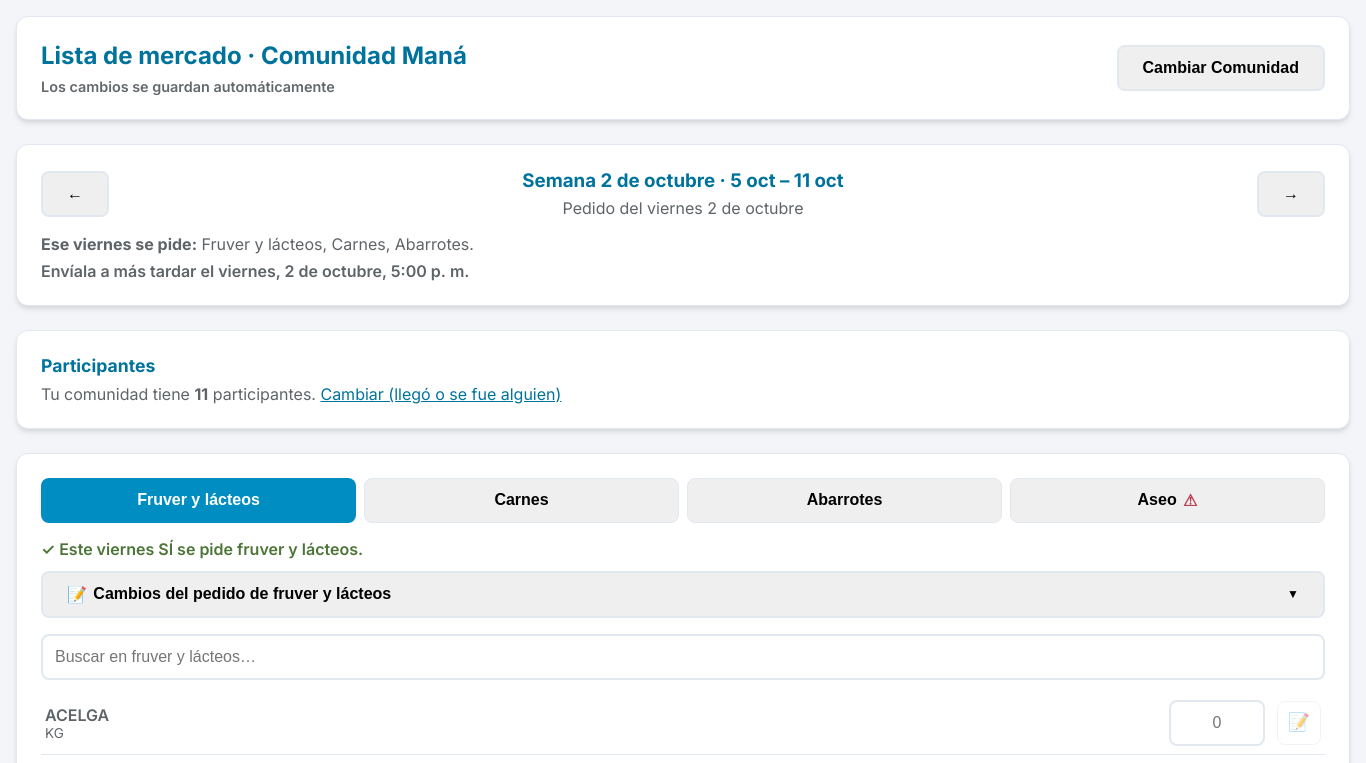
zona de cambios: agregar › el campo no deja pasar de 200 caracteres y muestra el contador
Click the button "📝 Cambios del pedido de fruver y lácteos ▼".
click(183, 594)  # box [41,571,1325,618]
(page scrolled)
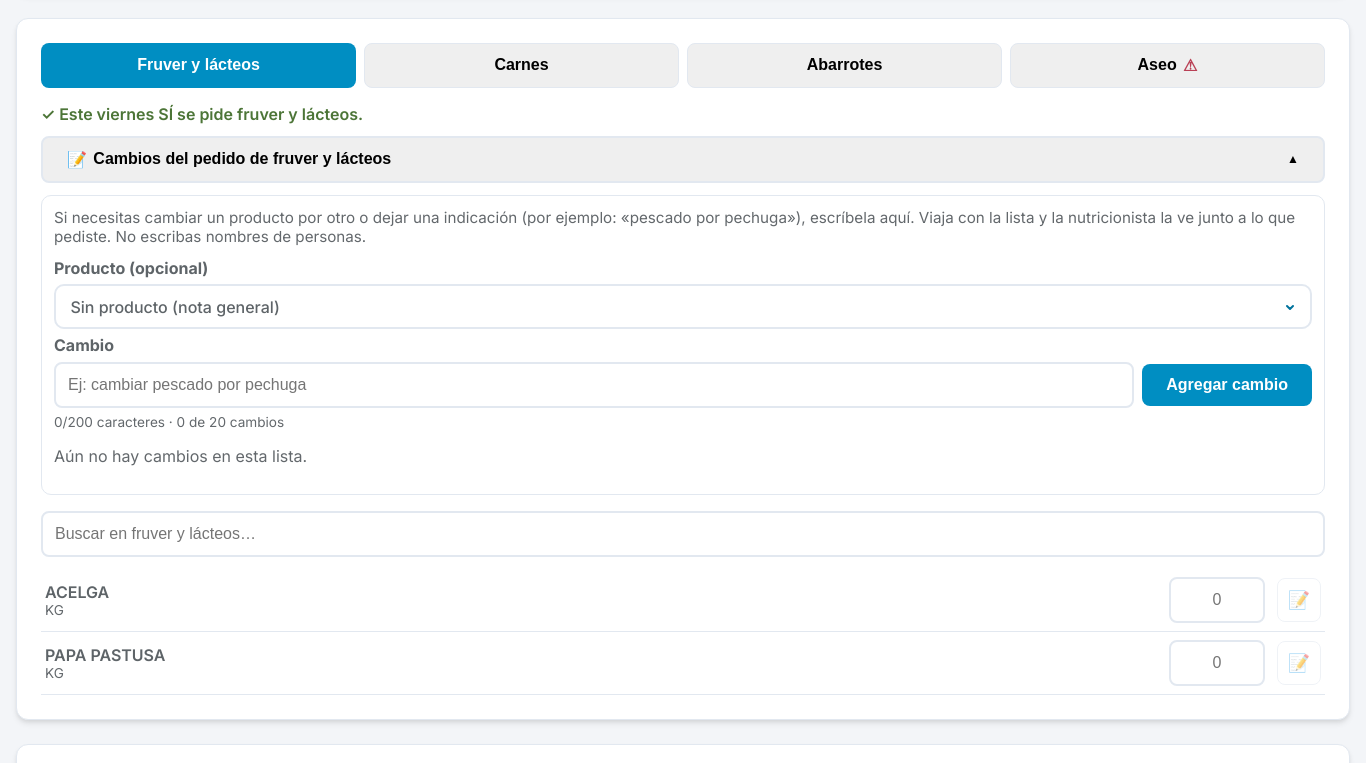
Type "hola" into the field labelled "Cambio".
click(594, 385); type("hola")  # box [54,362,1134,408]
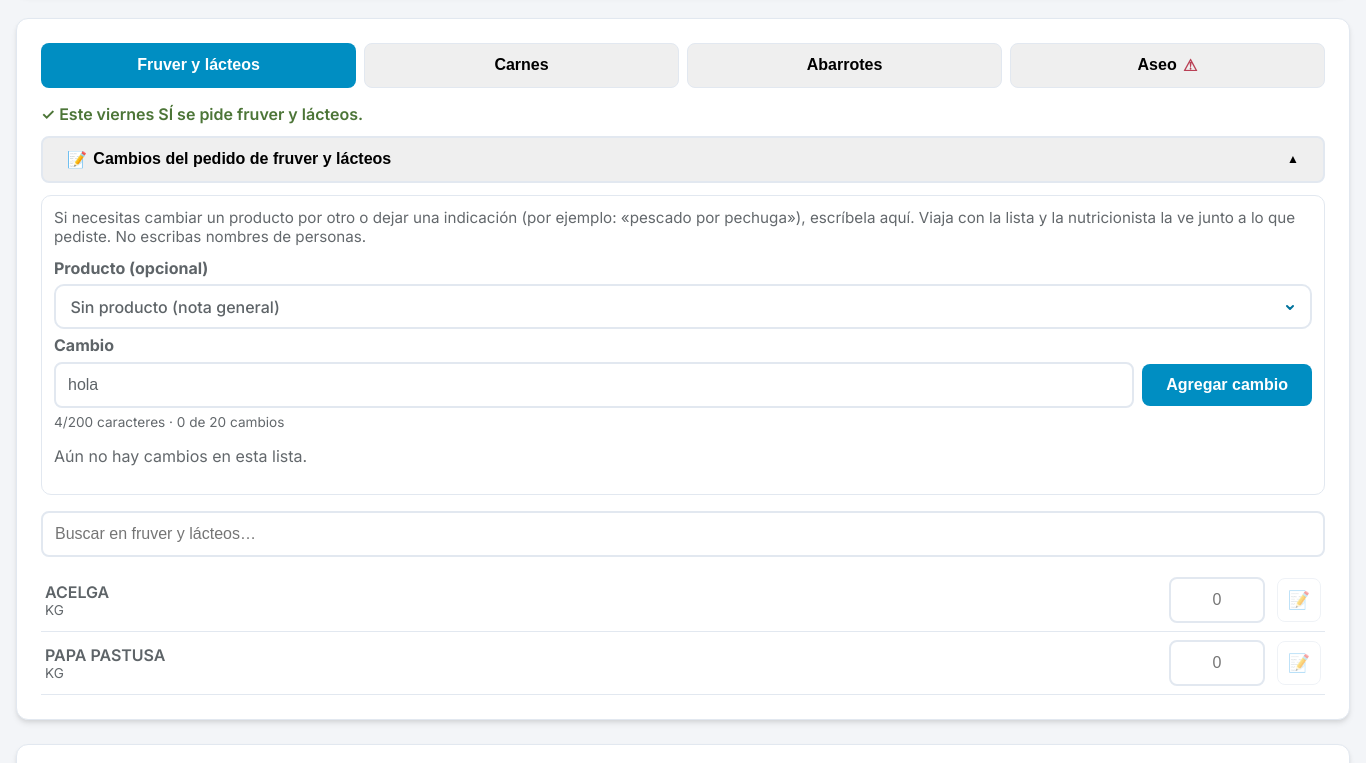
Now the text "4/200 caracteres · 0 de 20 cambios" is shown, box [54,414,284,430]
